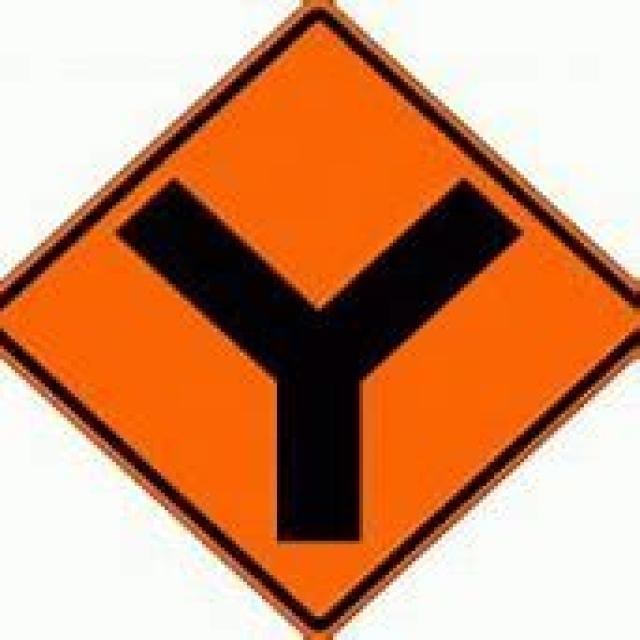y intersection: (36, 36, 612, 611)
